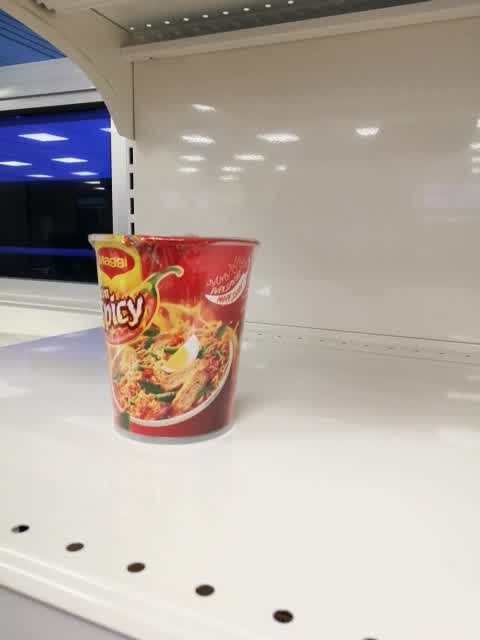maggi: (84, 231, 263, 449)
